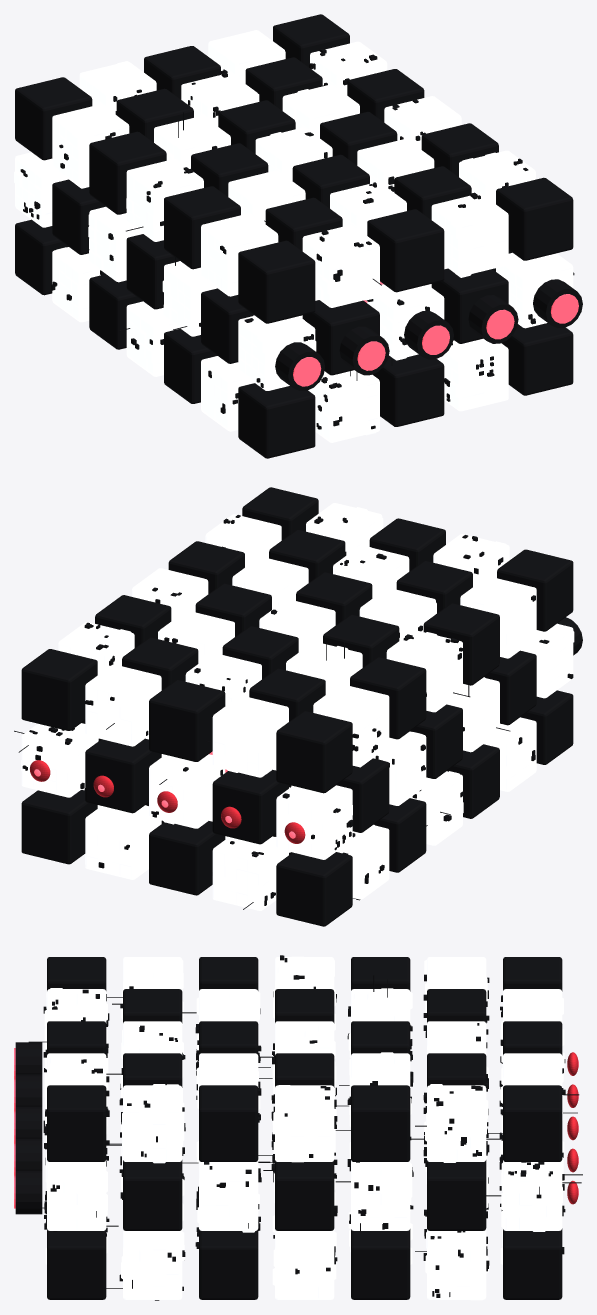
File: nyx_huge.glb
3 views of the same model, one above another, from view 1: azimuth 30°, elevation 25°; view 2: azimuth 150°, elevation 25°; view 3: azimuth 270°, elevation 25° (orthographic). The views are drawn at different scales.
Visible parts, largest first — view 1: nyx_huge; view 2: nyx_huge; view 3: nyx_huge.
Boxes of the visible parts, box(x1,y1,x2,y2) form: nyx_huge: box(14, 14, 582, 458); nyx_huge: box(14, 487, 582, 926); nyx_huge: box(14, 955, 582, 1300).
Size of the model in its own units: 7.16 by 4.15 by 10.07.
